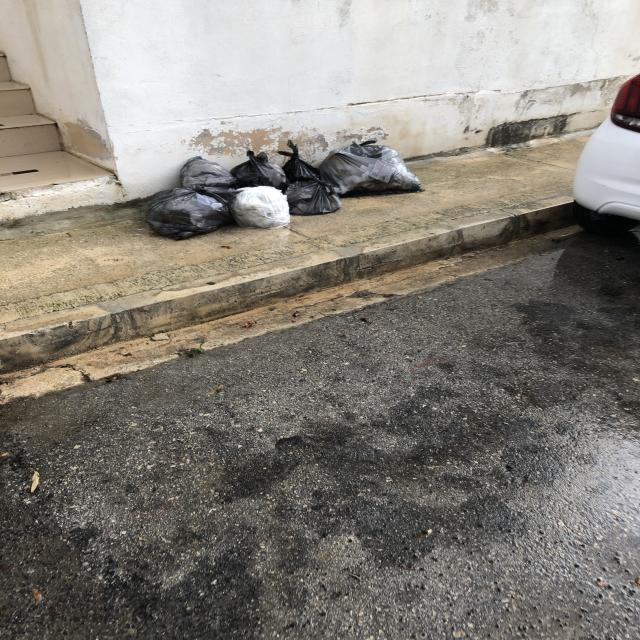Mixed Waste -Black Bag-: (321, 139, 426, 199), (144, 189, 232, 242), (231, 150, 287, 197), (284, 175, 343, 217), (179, 157, 239, 198), (283, 141, 326, 189)
Organic Waste -White Bag-: (231, 187, 290, 230)
